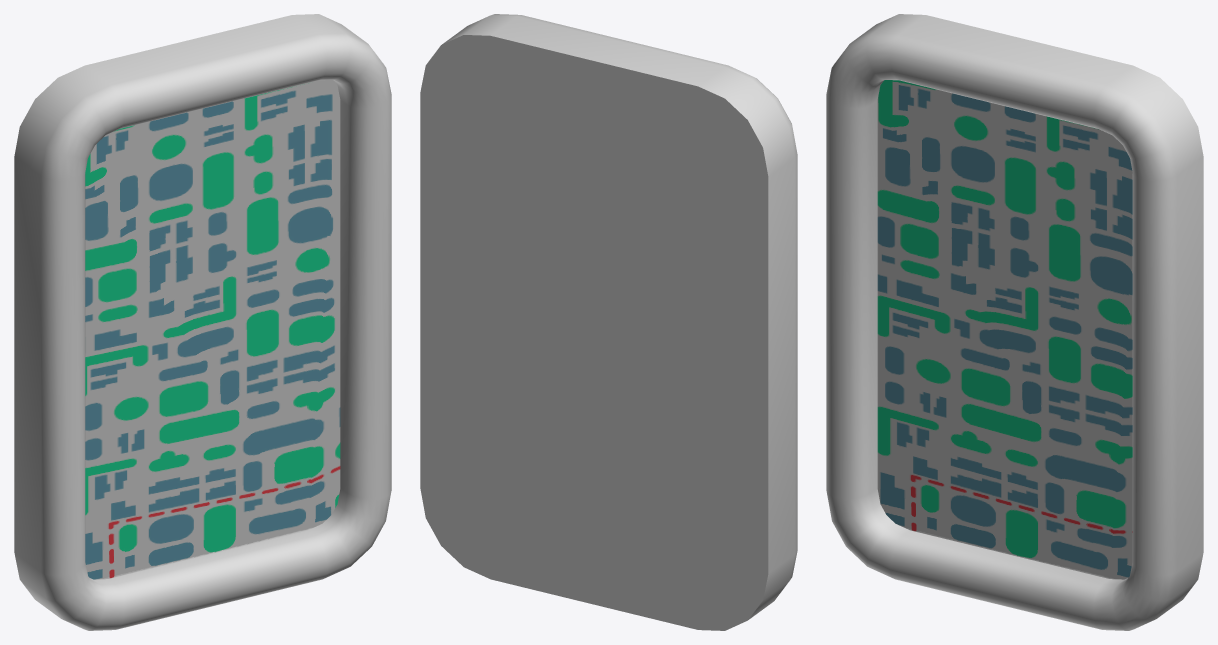
File: map.fbx
3 renders of one model, left to right at view 1: azimuth 30°, elevation 25°; view 2: azimuth 150°, elevation 25°; view 3: azimuth 330°, elevation 25°, orthographic.
Visible parts, largest first — view 1: Cube.062; view 2: Cube.062; view 3: Cube.062.
Part boxes in pixels (x1,y1,x2,y2): Cube.062: (14, 14, 391, 630); Cube.062: (420, 14, 797, 630); Cube.062: (826, 14, 1203, 630).
Size of the model in its own units: 200 by 299 by 36.9.
